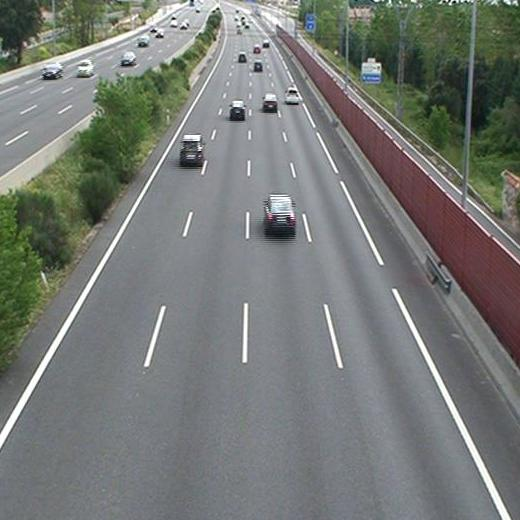car: (266, 195, 295, 232), (179, 137, 203, 163), (229, 100, 245, 118), (285, 88, 300, 103), (262, 95, 276, 110), (253, 61, 263, 70), (237, 53, 247, 61), (262, 39, 270, 48), (253, 45, 260, 53)
